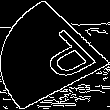P_SE: (14, 24, 96, 86)
